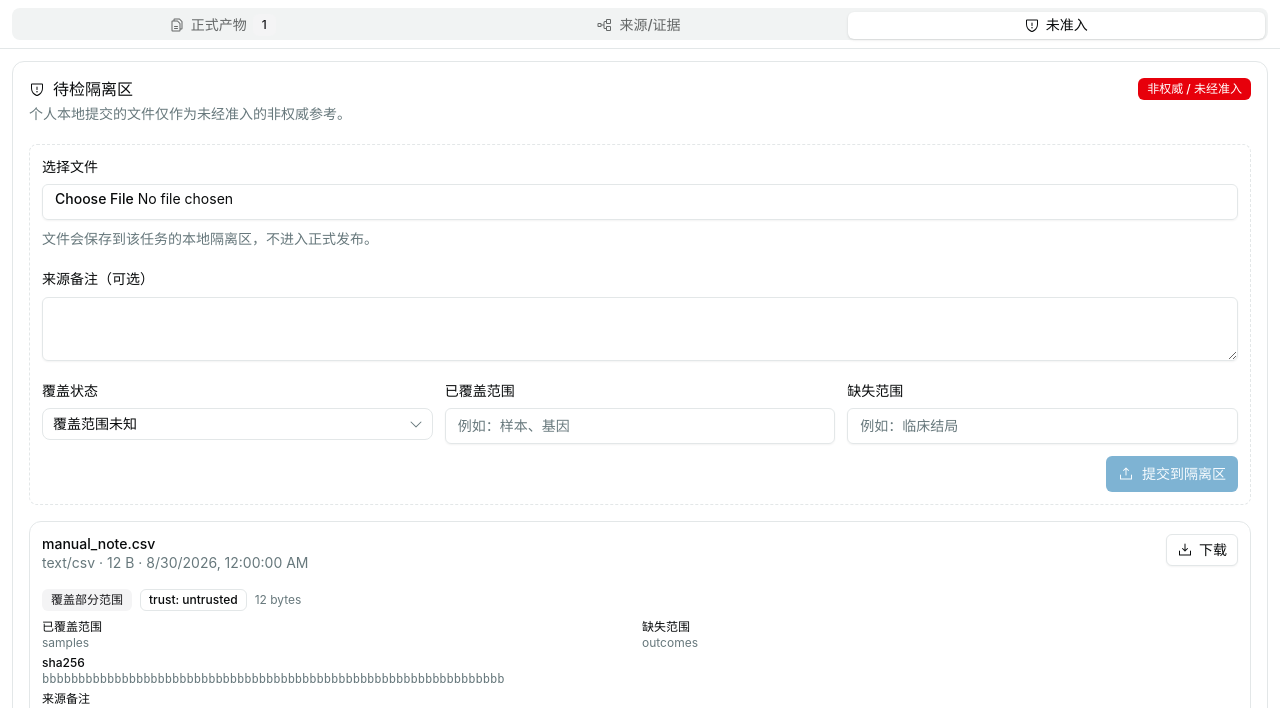
Scenario: TaskOutputPanel tabs › keeps quarantine items labeled non-authoritative and out of formal counts
Check: the text "manual_note.csv" is shown, box x1=42 y1=535 x2=155 y2=552
Check: the text "非权威 / 未经准入" is shown, box x1=1138 y1=78 x2=1251 y2=100
Click the tab "正式产物 1" at (223, 25), box x1=15 y1=12 x2=432 y2=38
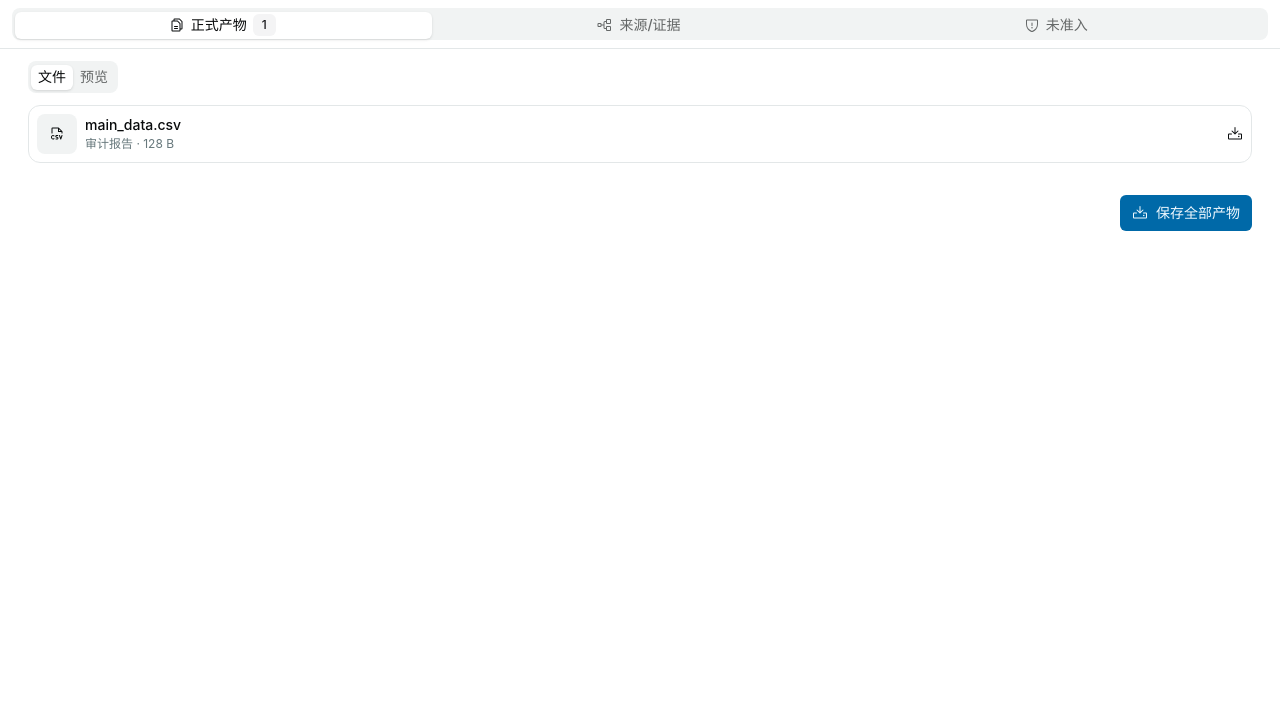
Check: the text "main_data.csv" is shown, box x1=85 y1=116 x2=181 y2=133
Check: the text "manual_note.csv" is gone
